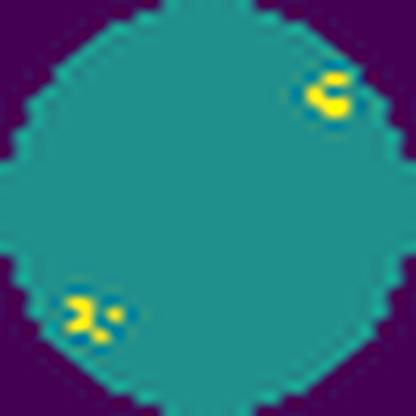Loc: (61, 286, 127, 351), (299, 66, 358, 124)
